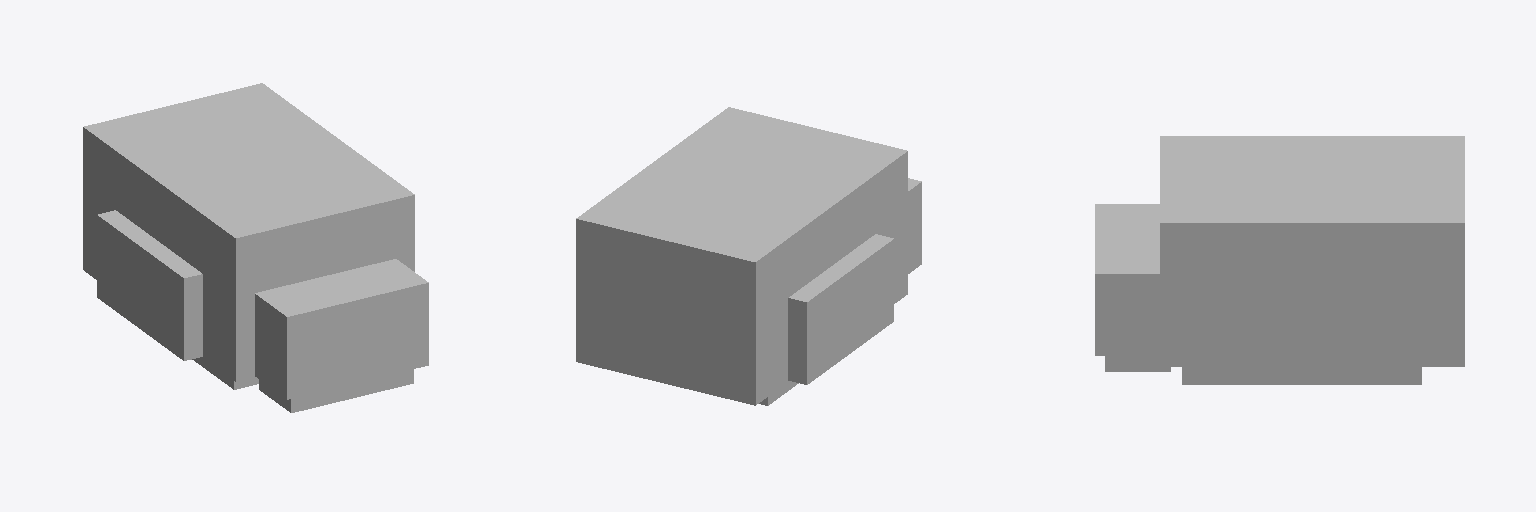
The model's file is envirosuit_boot_right_WIP.obj.
3 renders of one model, left to right at view 1: azimuth 30°, elevation 25°; view 2: azimuth 150°, elevation 25°; view 3: azimuth 270°, elevation 25°, orthographic.
Visible parts, largest first — view 1: Right_Boot_Cube.022; view 2: Right_Boot_Cube.022; view 3: Right_Boot_Cube.022.
Boxes of the visible parts, x1=… form: Right_Boot_Cube.022: x1=83, y1=83, x2=428, y2=412; Right_Boot_Cube.022: x1=576, y1=107, x2=921, y2=405; Right_Boot_Cube.022: x1=1095, y1=136, x2=1464, y2=384.
Size of the model in its own units: 0.6562 by 0.5117 by 1.06.